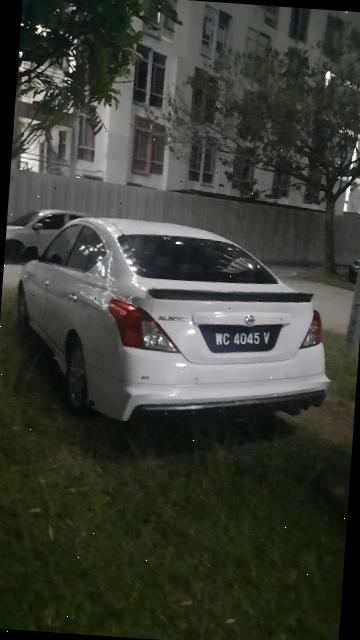License_Plate: (191, 317, 288, 360)
car: (5, 210, 360, 447)
